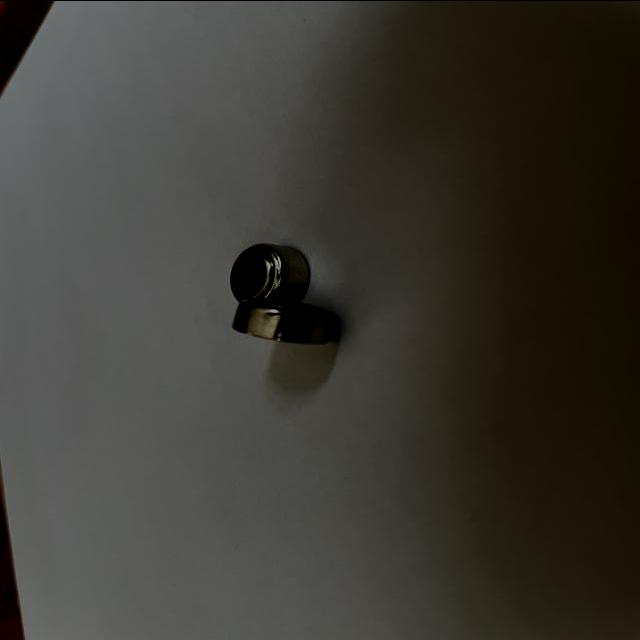COIN: (231, 297, 337, 344), (232, 242, 308, 306)
